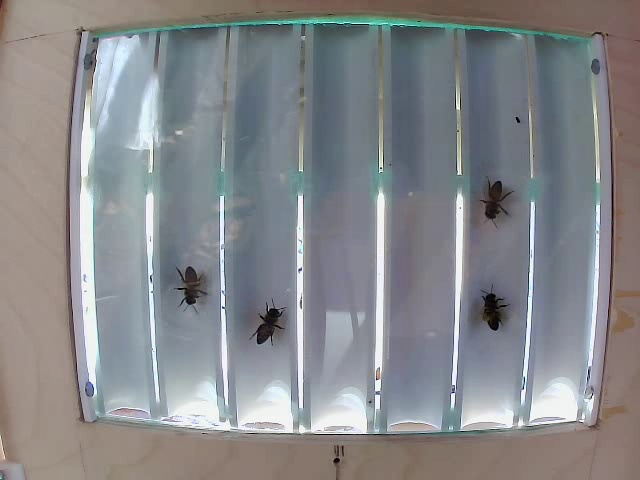bee: (251, 300, 299, 374), (467, 157, 507, 220), (469, 290, 505, 330), (176, 264, 209, 297)
